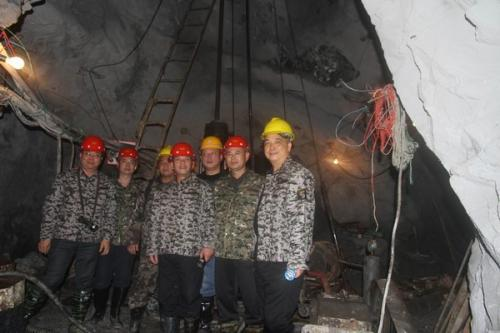helmet: (258, 115, 297, 168), (198, 131, 227, 173), (78, 136, 109, 173), (114, 145, 142, 180), (225, 136, 251, 173), (168, 141, 194, 176), (159, 146, 176, 181)
